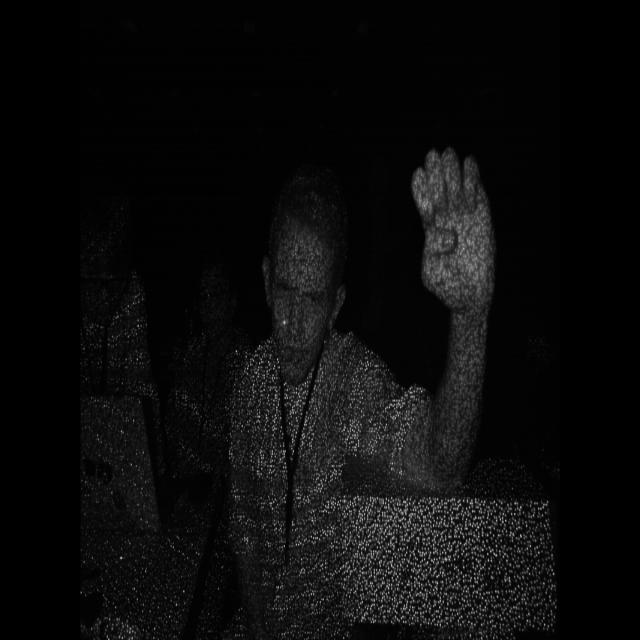E: (401, 134, 506, 320)
